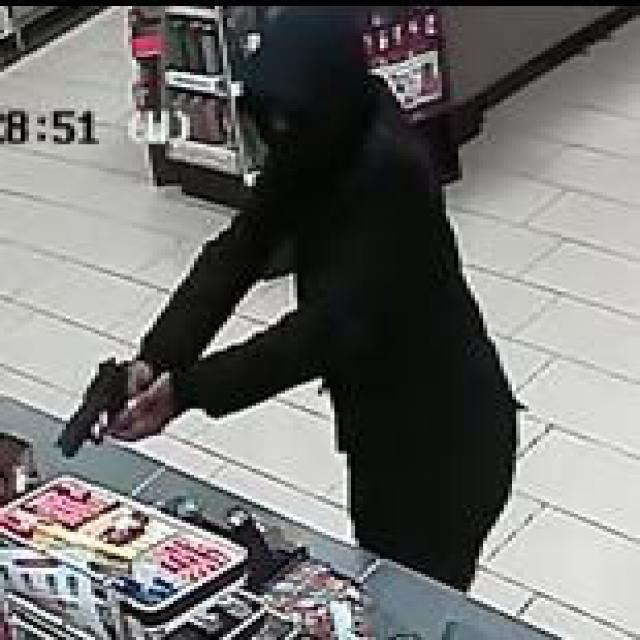Gun: (45, 354, 157, 454)
